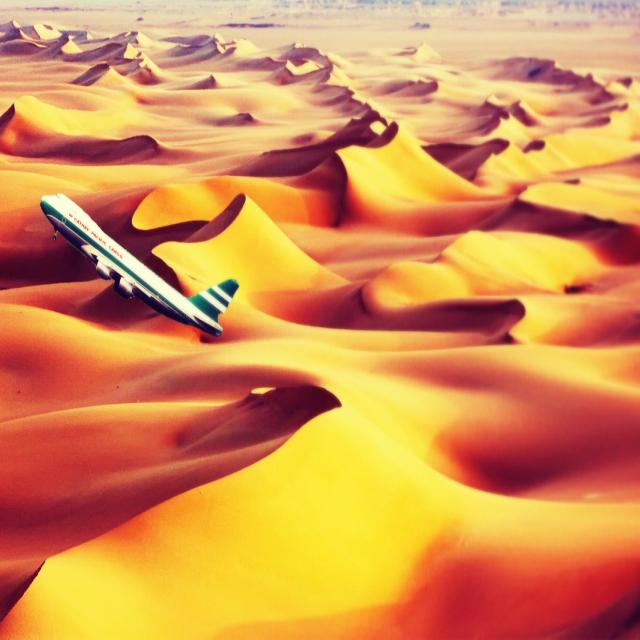airplane: (40, 191, 238, 338)
